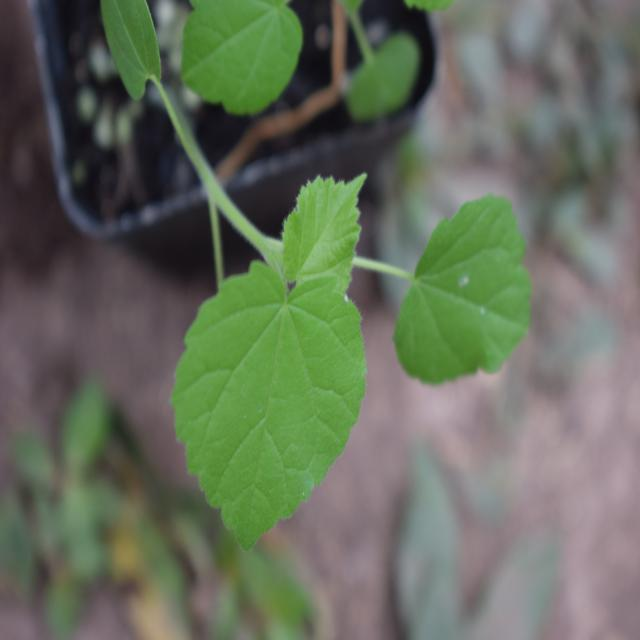abutilon theophrasti: (115, 86, 529, 528)
